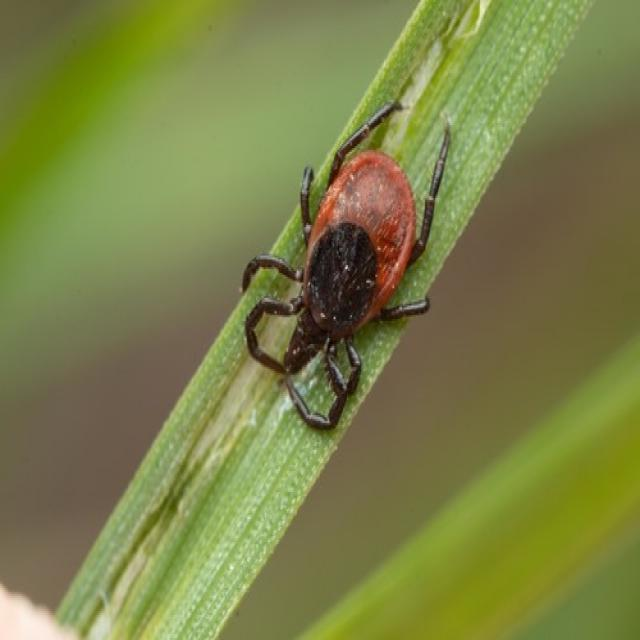Ixodes Ricinus-F: (242, 102, 449, 429)
